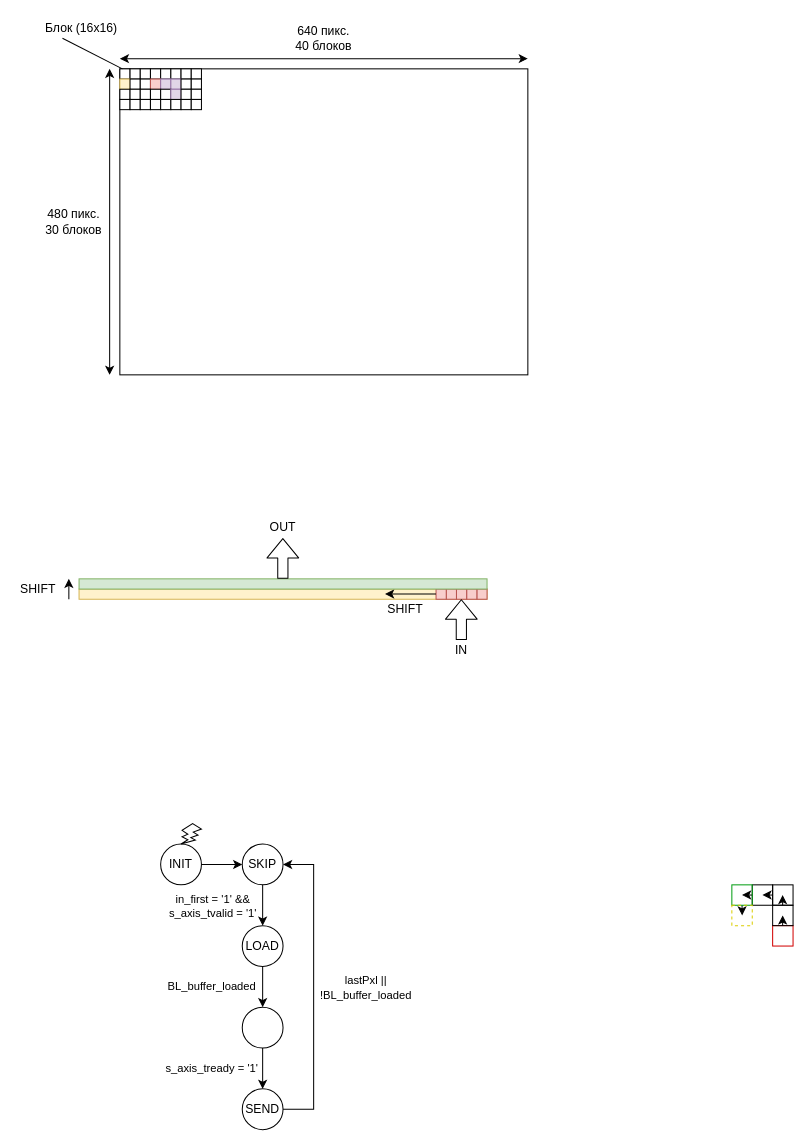
Image size: 811x1148. Some labels were removed from this diagram. The centre of each missing label's shape, as x and y in pixels:
FIRST: pixel 262 1027
Кадр (640х480): pixel 323 221
